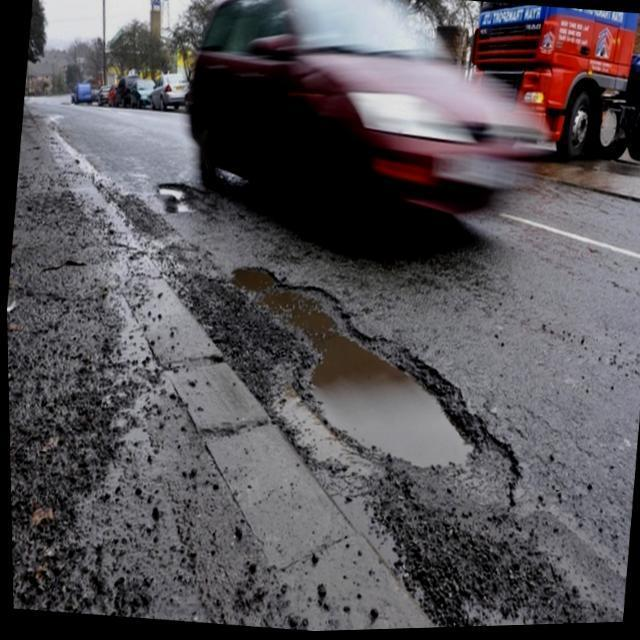Pothole: (225, 261, 513, 526), (153, 178, 200, 220)
